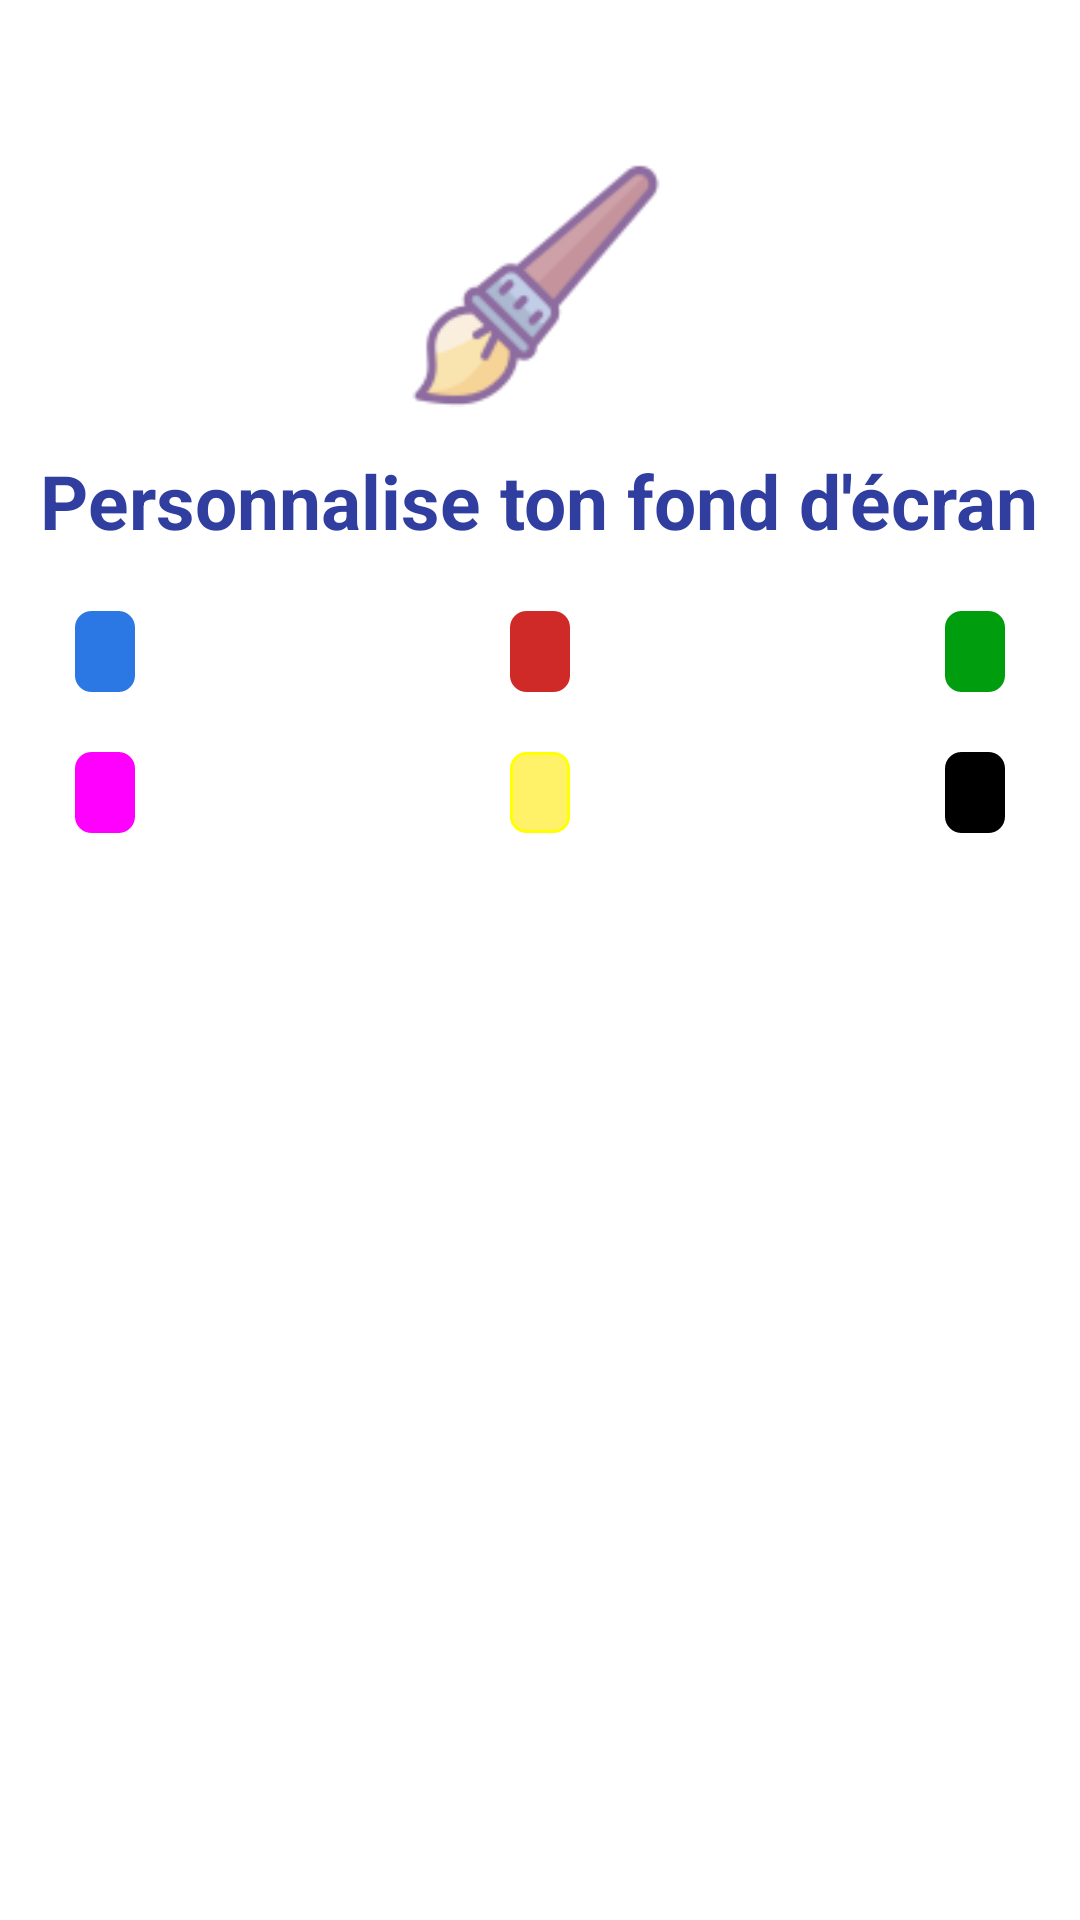

Icon click points for this 1080 x 1920 phone screenshot, format (x=x, y=y):
pinceau: (x=536, y=285)
